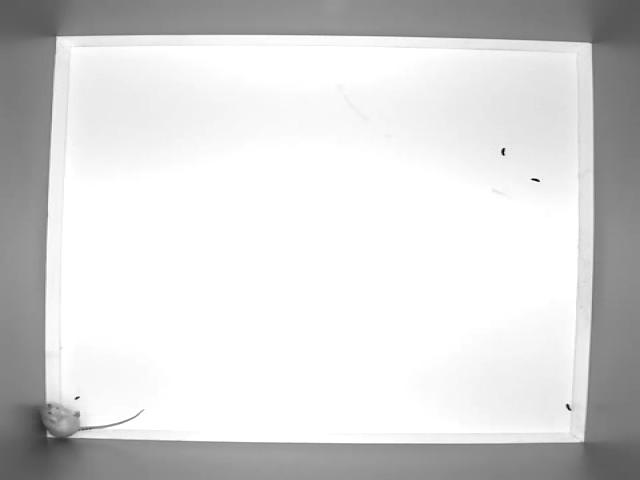Tikus: (37, 398, 153, 439)
